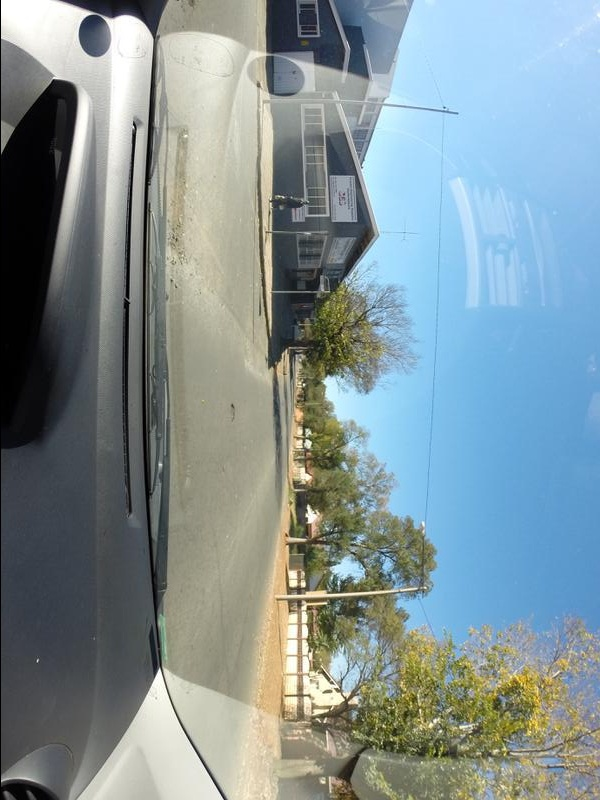pothole: (223, 404, 242, 446)
